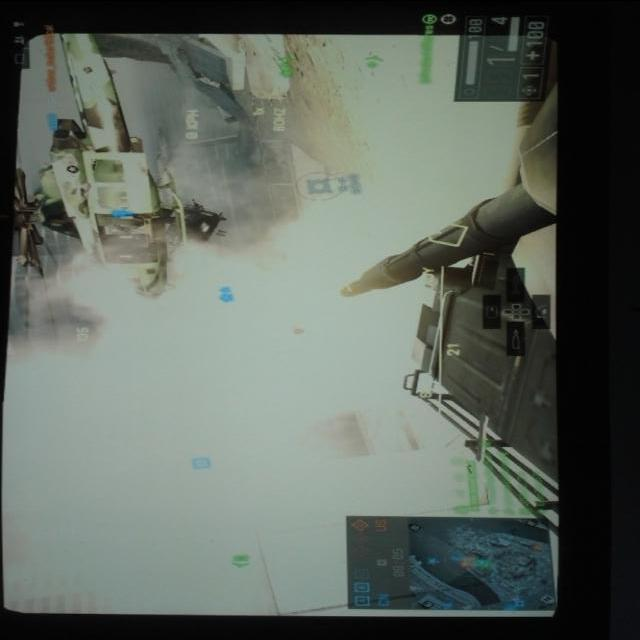missile: (332, 177, 565, 296)
